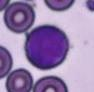L: (24, 24, 70, 70)
